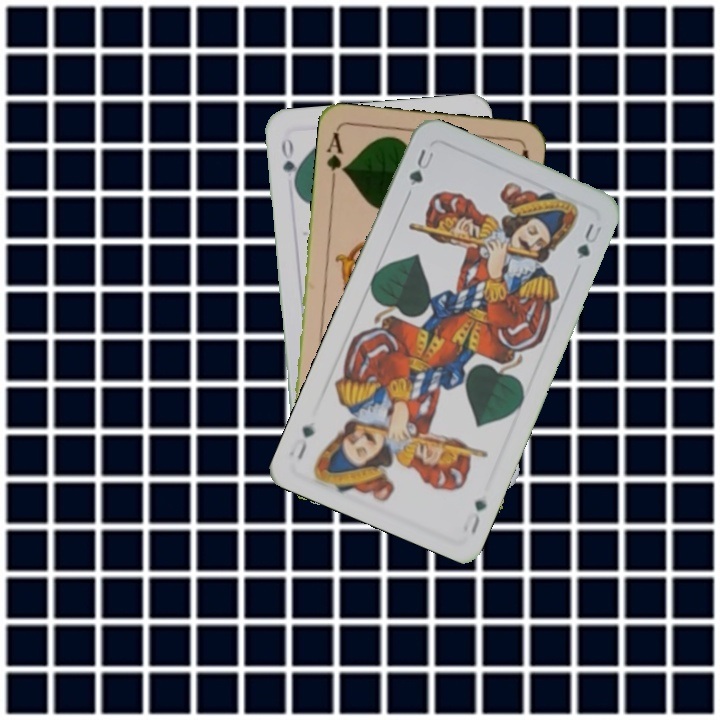GA: (322, 128, 349, 187)
GO: (277, 134, 302, 192)
GU: (404, 145, 437, 188), (466, 495, 490, 539)
